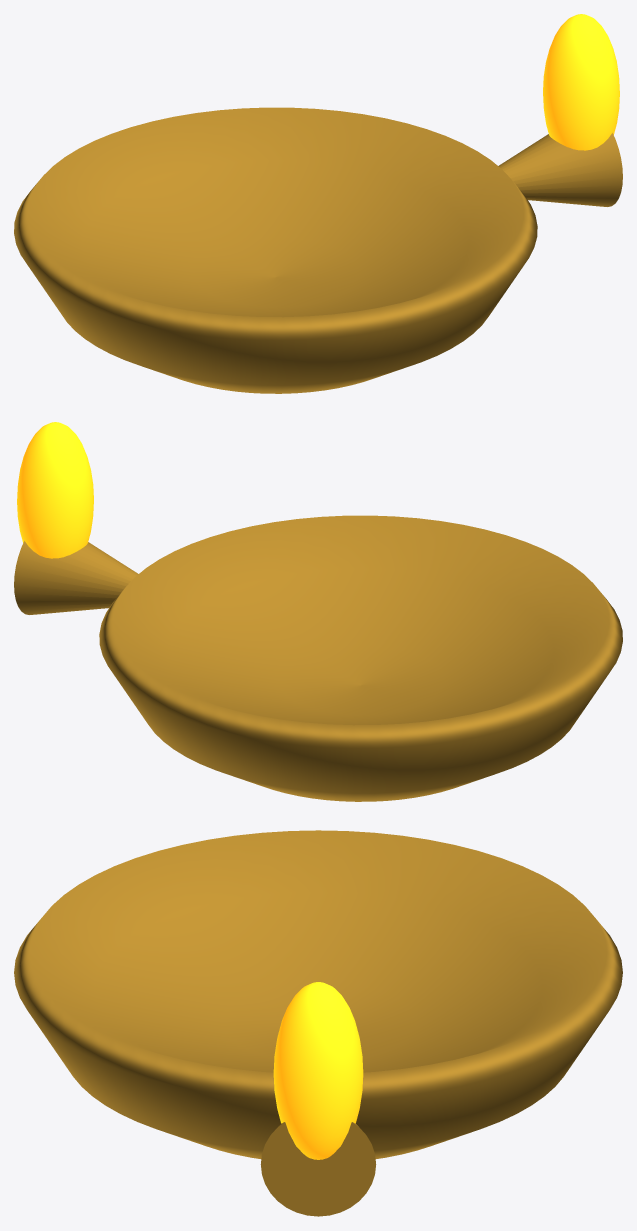
The model's file is diya.glb.
3 renders of one model, top to bottom at view 1: azimuth 30°, elevation 25°; view 2: azimuth 150°, elevation 25°; view 3: azimuth 270°, elevation 25°, orthographic. The views are drawn at different scales.
Size of the model in its own units: 2.37 by 0.958 by 1.9.
